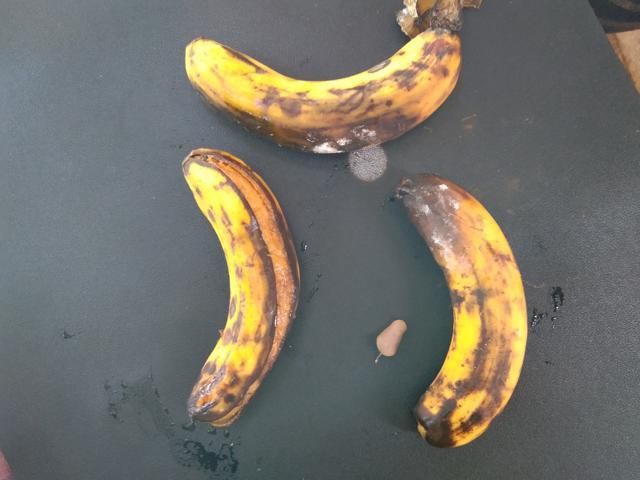rotten: (380, 168, 544, 479), (160, 138, 301, 440), (159, 20, 479, 145)
